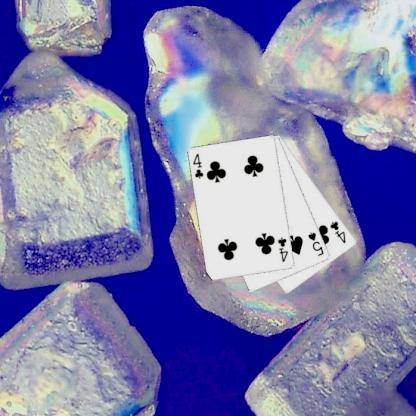4C: (327, 218, 348, 245), (190, 151, 205, 180), (275, 235, 290, 263)
5S: (306, 230, 325, 258)
